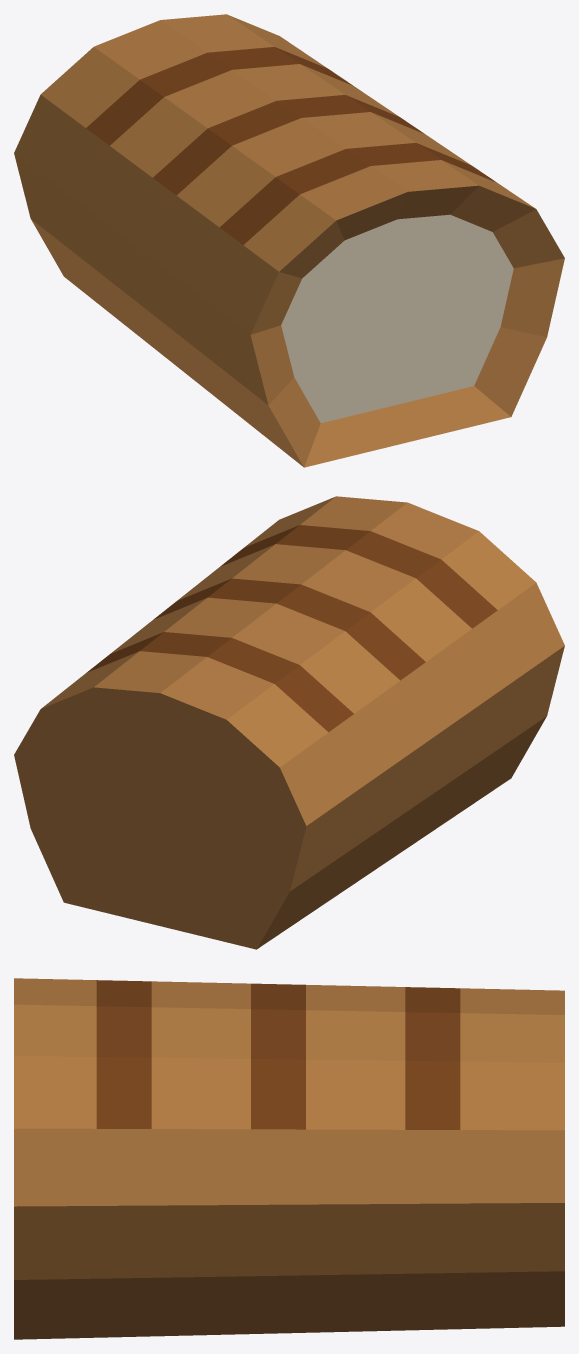
File: bread-loaf-0e0ab5.glb
3 renders of one model, top to bottom at view 1: azimuth 30°, elevation 25°; view 2: azimuth 150°, elevation 25°; view 3: azimuth 270°, elevation 25°, orthographic. The views are drawn at different scales.
Size of the model in its own units: 0.176 by 0.134 by 0.24.
